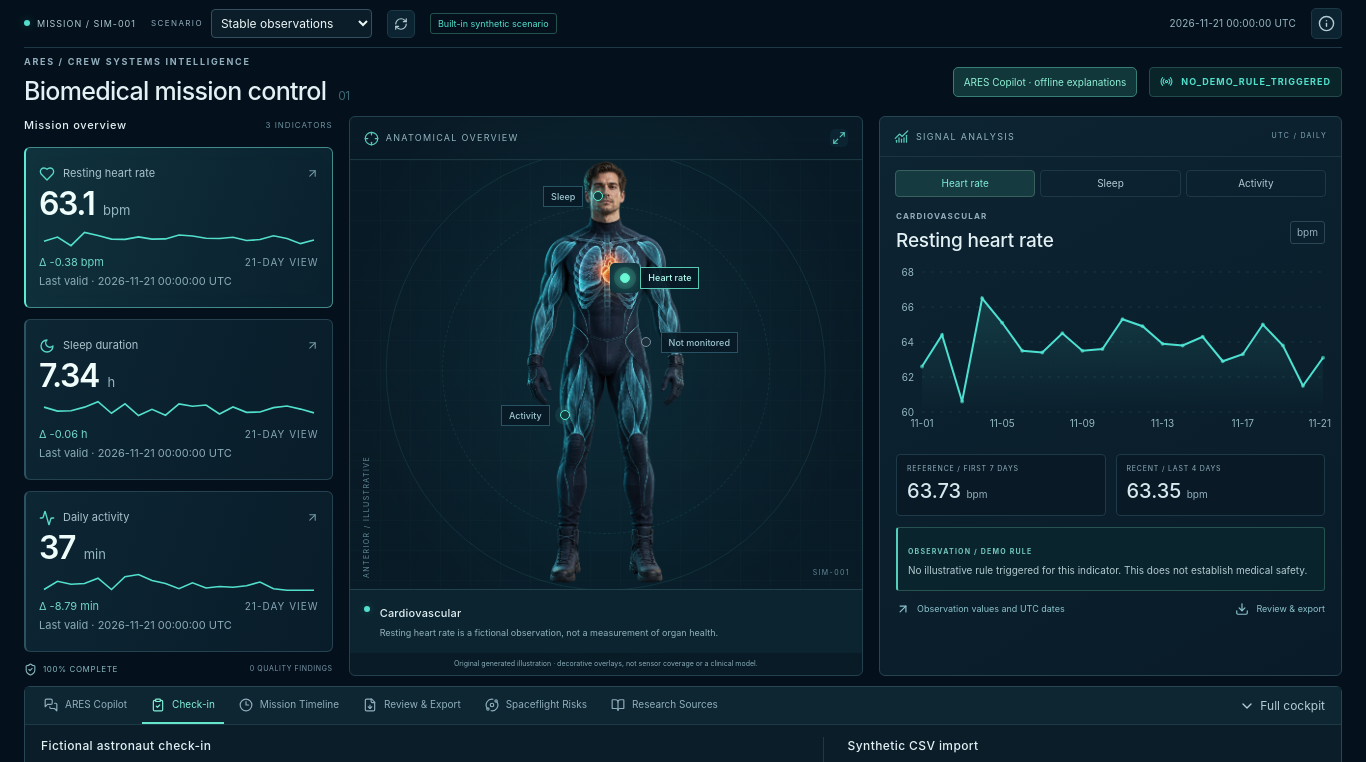
Test: removes old results when a new mission request fails
Expected: the heading "Mission overview" is shown, [24,118,127,134]
Select "Resting heart rate shift" in the dropdown named "Demo scenario": (291, 24) [211,9,372,38]
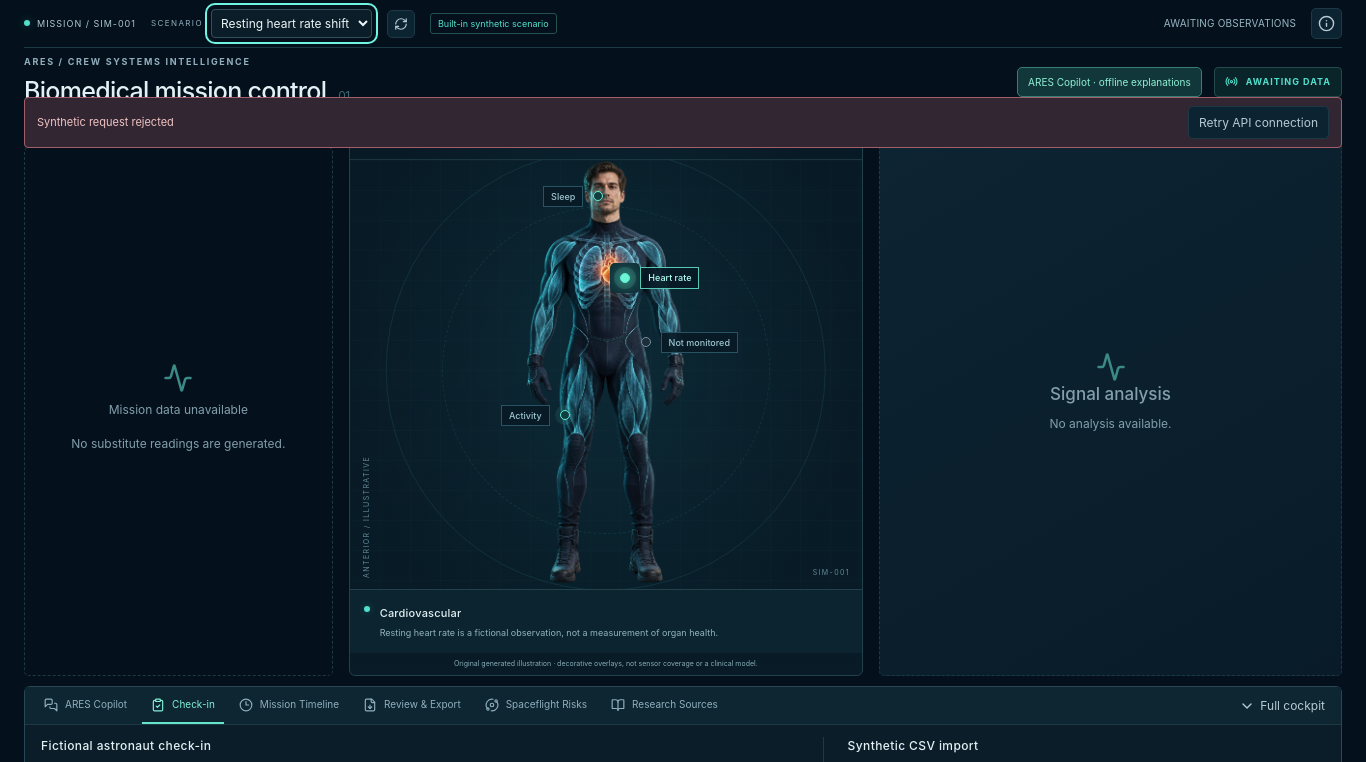
Result: the message "Synthetic request rejected Retry API connection" is shown at [24,97,1342,148]
Result: the heading "Mission overview" is gone
